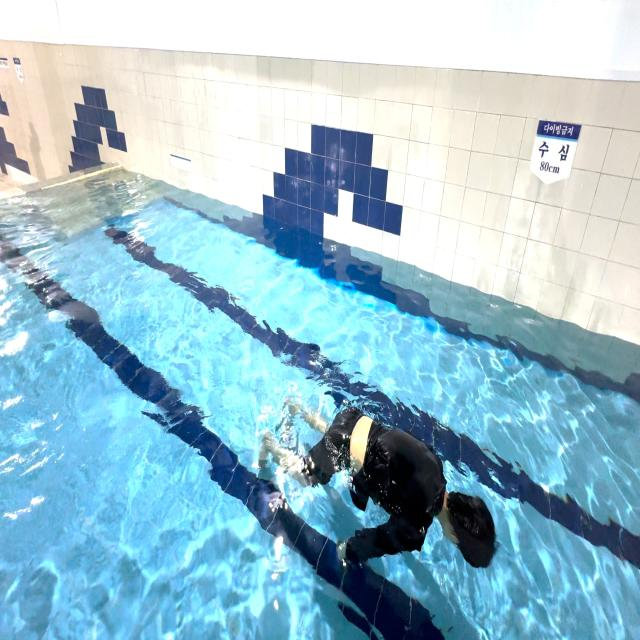Drowning: (255, 383, 506, 594)
